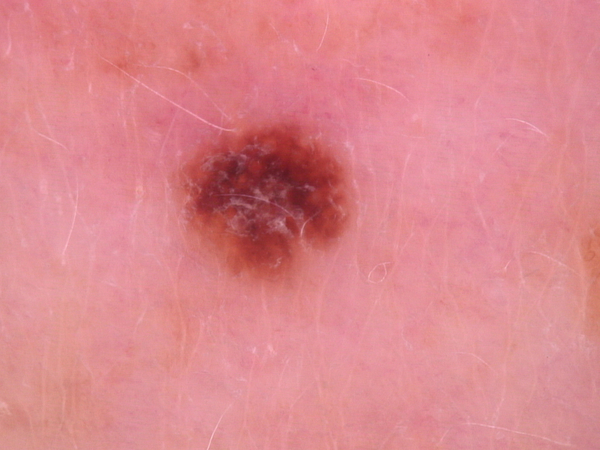Detected Lesion: (174, 117, 358, 288)
